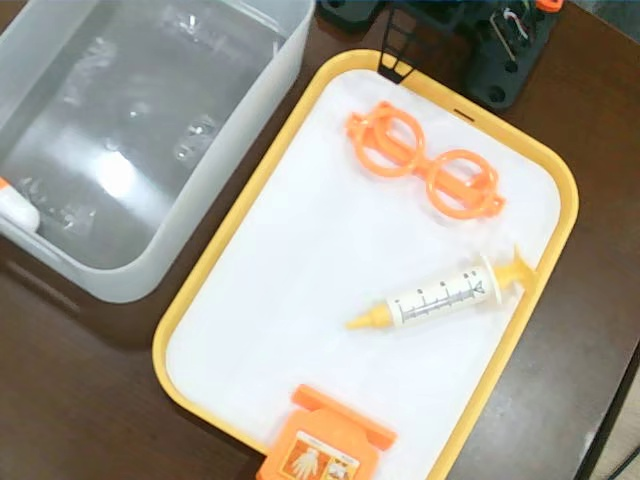pill: (0, 175, 42, 232)
syringe: (344, 245, 538, 338)
